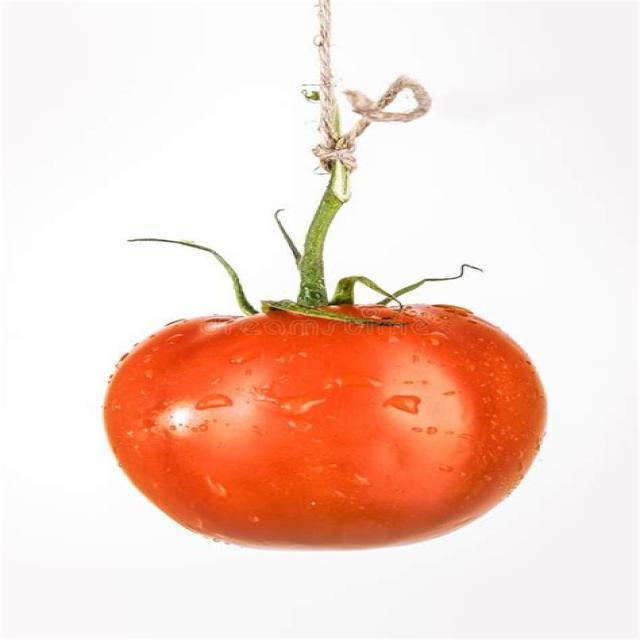Tomato: (102, 303, 549, 552)
